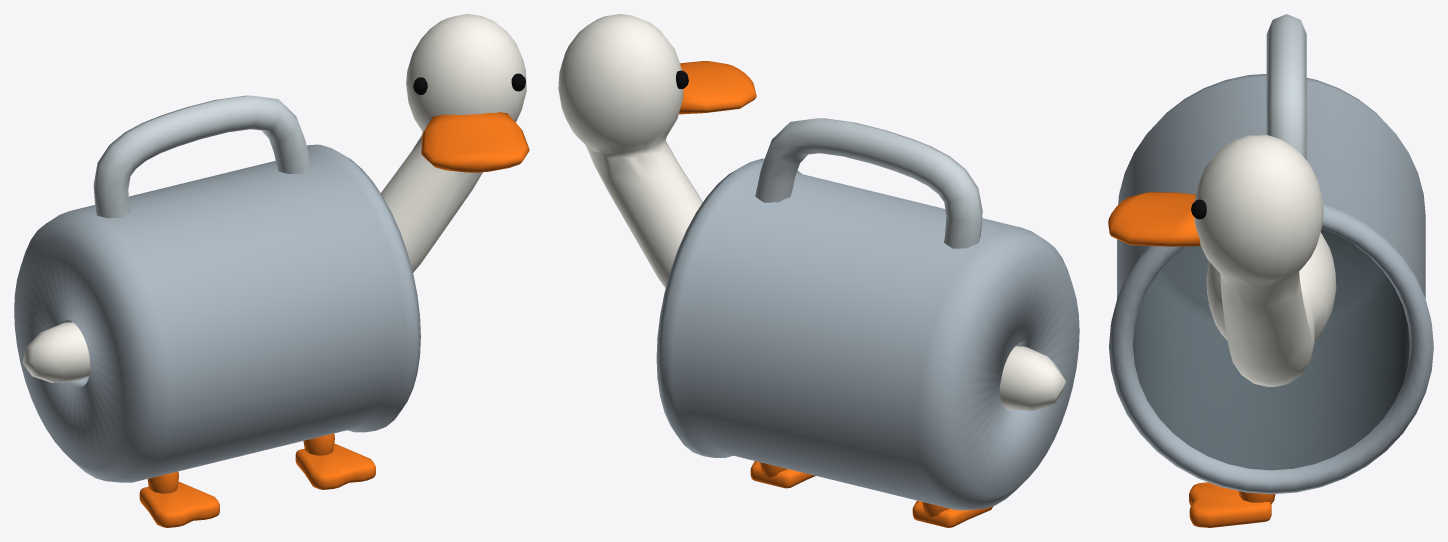
Rendered from duck-steelcup.fbx.
3 renders of one model, left to right at view 1: azimuth 30°, elevation 25°; view 2: azimuth 150°, elevation 25°; view 3: azimuth 270°, elevation 25°, orthographic. The views are drawn at different scales.
Parts seen in each view (by area): view 1: duck-steelcup; view 2: duck-steelcup; view 3: duck-steelcup.
Part boxes in pixels (box(x1,y1,x2,y2)): duck-steelcup: box(14, 14, 529, 527); duck-steelcup: box(558, 14, 1079, 527); duck-steelcup: box(1108, 14, 1433, 527).
Size of the model in its own units: 100 by 80.96 by 52.66.
Materials: 1 (1 with a texture image).
